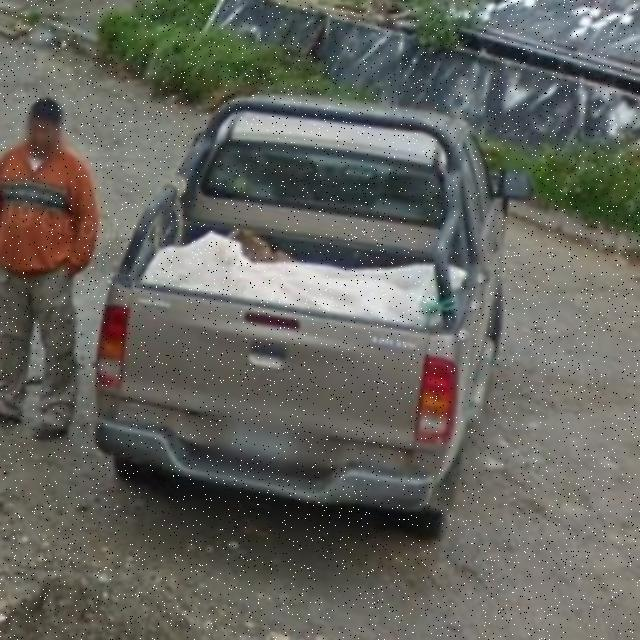cars: (101, 100, 495, 528)
